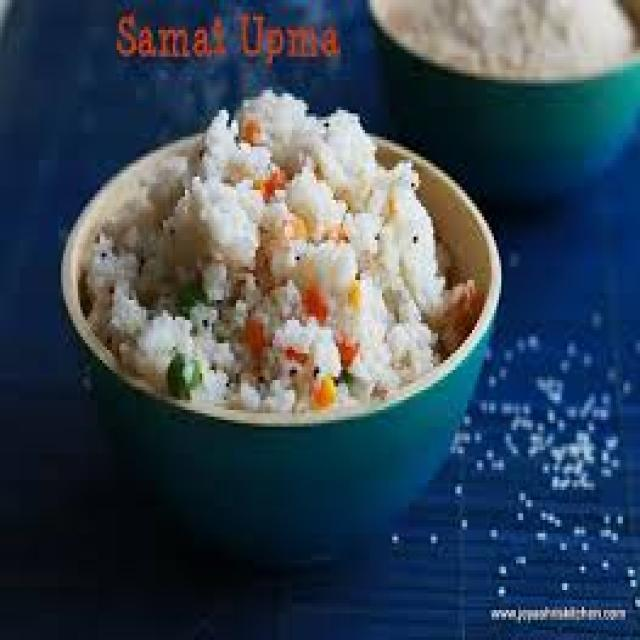UPMA: (80, 87, 479, 413)
